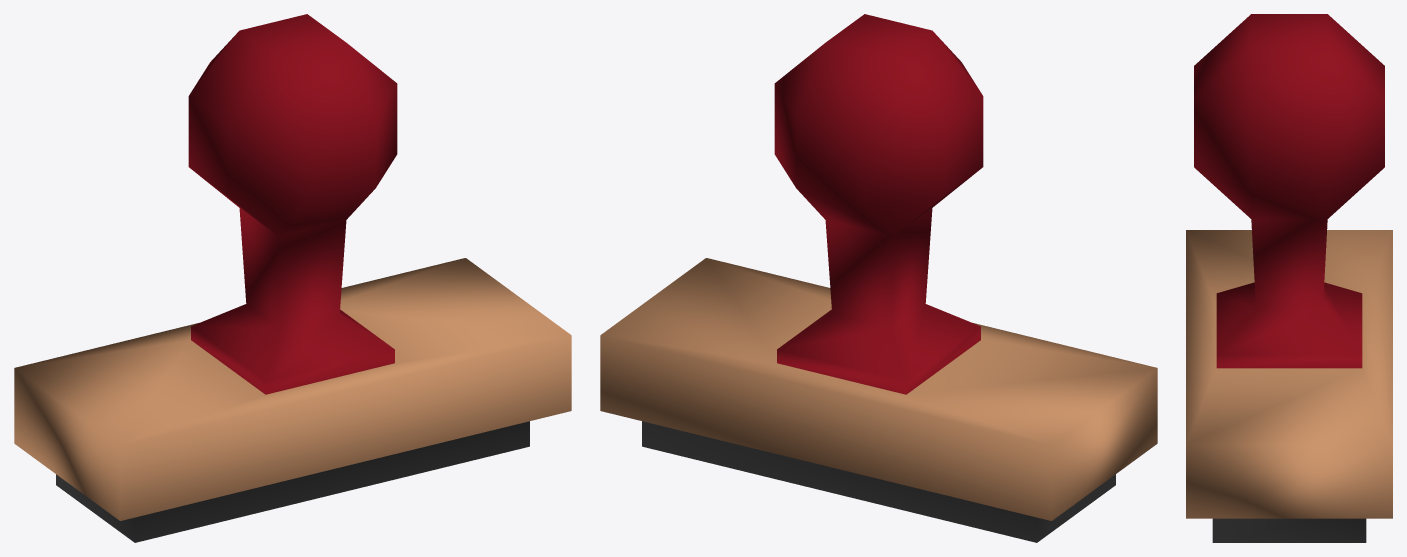
The model's file is stamp.glb.
The picture shows the model from 3 angles, left to right: view 1: azimuth 30°, elevation 25°; view 2: azimuth 150°, elevation 25°; view 3: azimuth 270°, elevation 25°; orthographic projection. The views are drawn at different scales.
Parts seen in each view (by area): view 1: mesh_stamp_01; view 2: mesh_stamp_01; view 3: mesh_stamp_01.
Boxes of the visible parts, left/top/right/bottom form: mesh_stamp_01: left=14, top=14, right=571, bottom=542; mesh_stamp_01: left=600, top=14, right=1157, bottom=542; mesh_stamp_01: left=1186, top=14, right=1392, bottom=542.
Bounding box in the file's own units: 0.2237 × 0.2033 × 0.091.
1 material, 1 textured.
